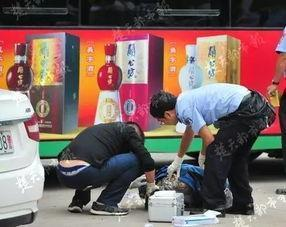Fall-Detected: (129, 151, 241, 215)
